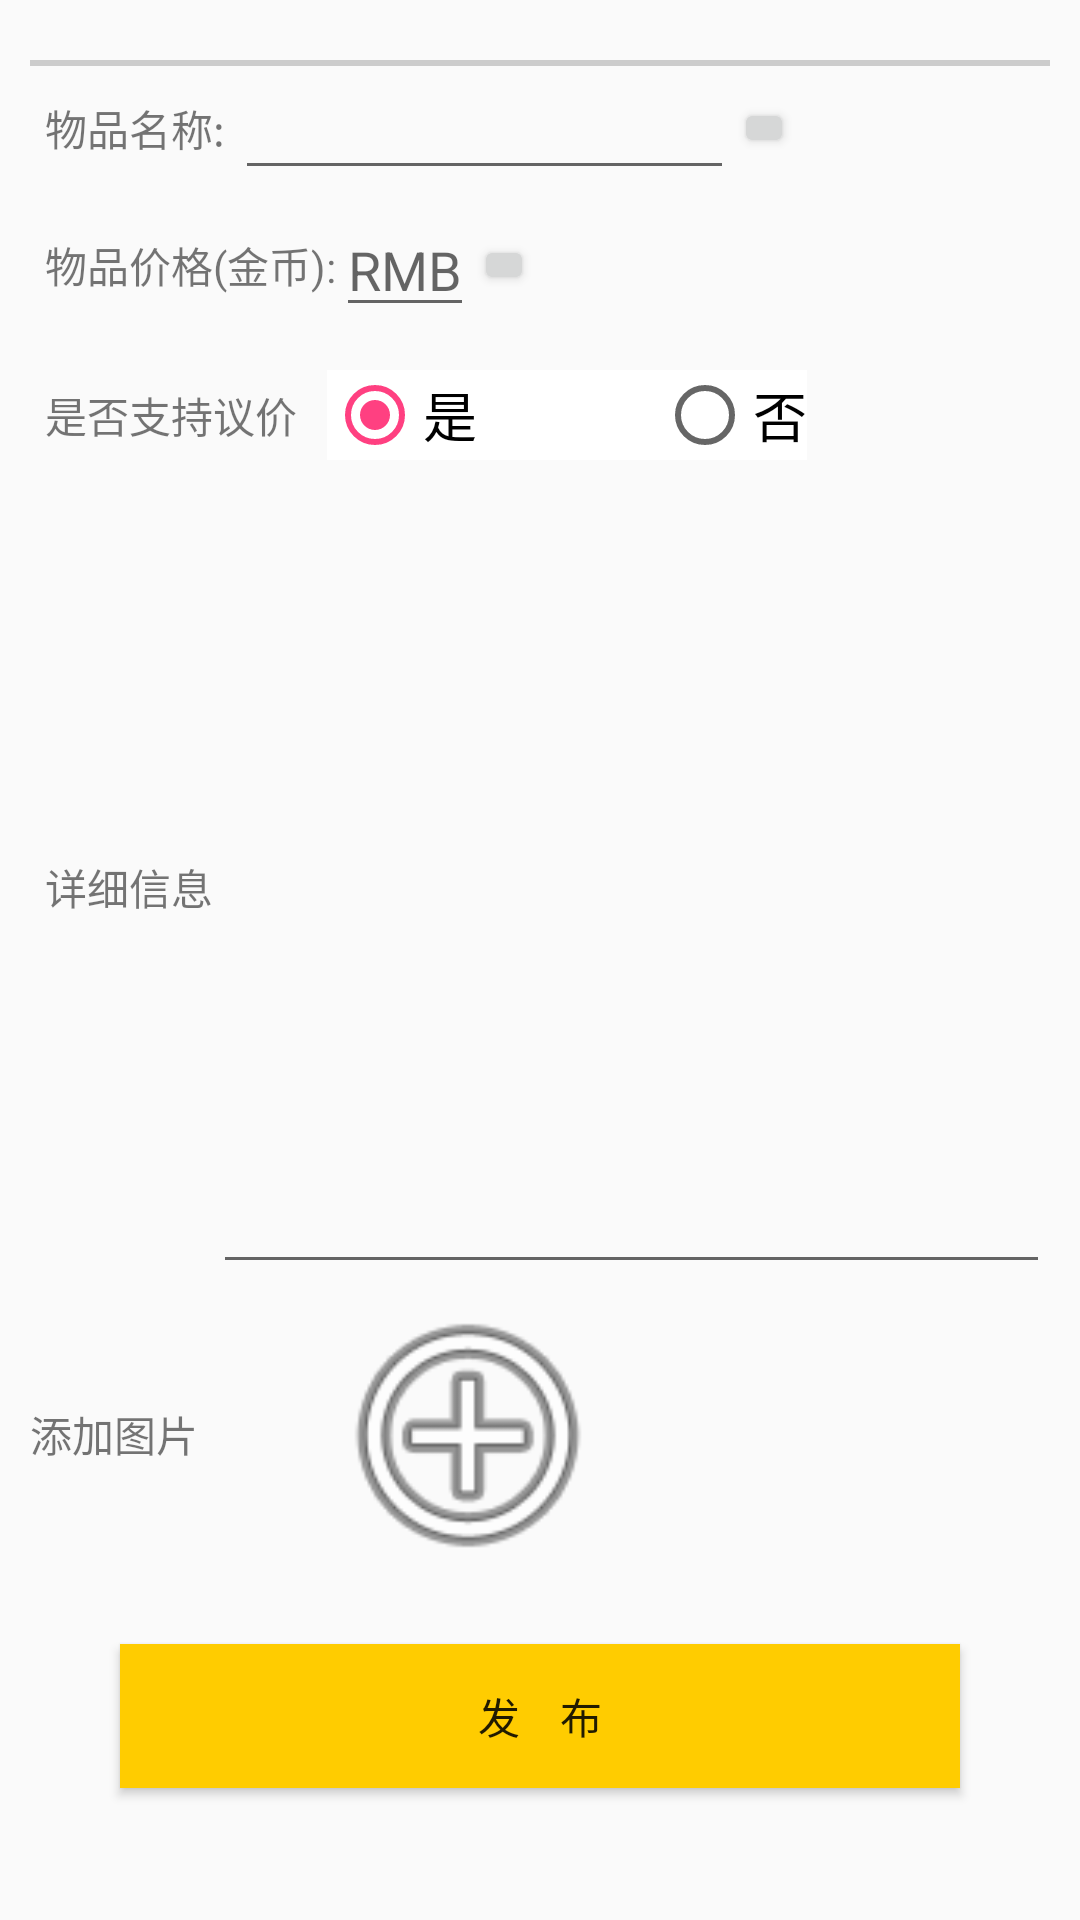

Locate icon controls on the screen. Image size 1080w x 1920h, boxes as (x1, y1, x2, y2).
add: (356, 1324, 580, 1547)
